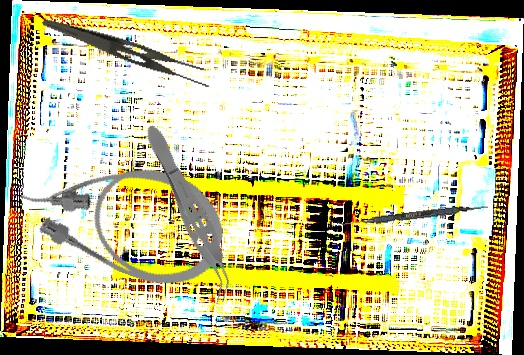Cannula: (7, 129, 237, 301)
Dressing Forceps: (36, 17, 217, 91)
Spatula Surgical: (337, 200, 489, 231)
Tissue Forceps: (135, 119, 245, 306)
